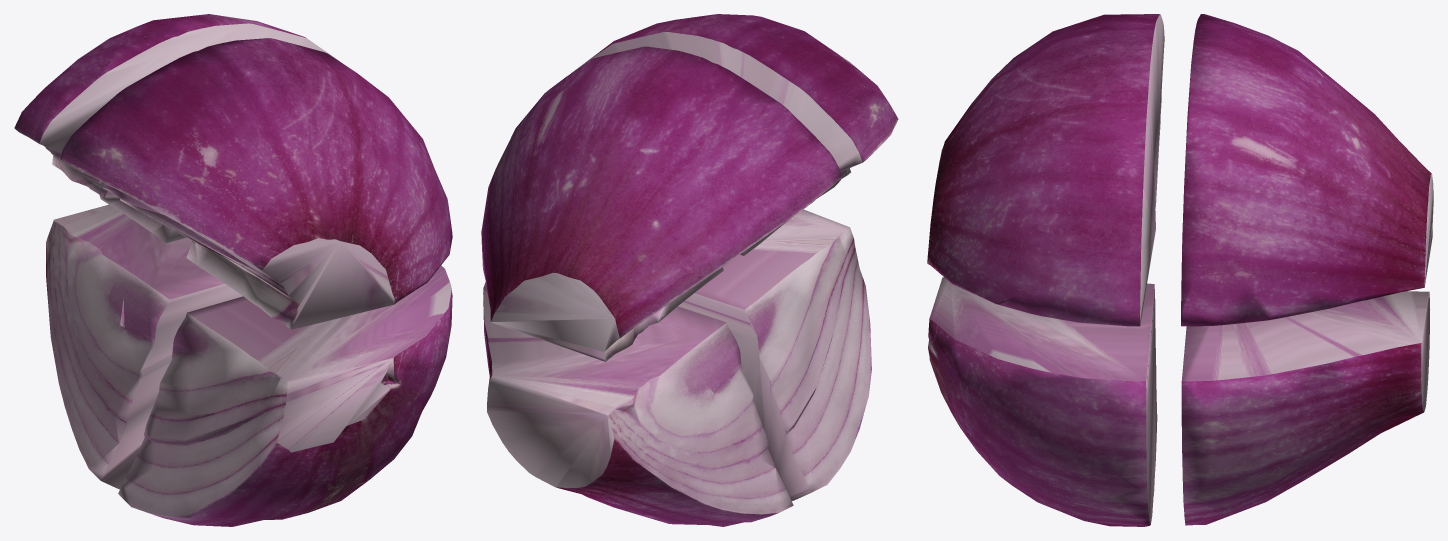
The model's file is OnionCut03.fbx.
3 views of the same model, side by side, from view 1: azimuth 30°, elevation 25°; view 2: azimuth 150°, elevation 25°; view 3: azimuth 270°, elevation 25° (orthographic).
Parts seen in each view (by area): view 1: Result.003, Result.002, Result.001, Result; view 2: Result, Result.001, Result.002, Result.003; view 3: Result, Result.003, Result.001, Result.002.
Part boxes in pixels (x1,y1,x2,y2): Result.003: (59, 38, 452, 329); Result.002: (118, 265, 452, 526); Result.001: (46, 204, 242, 489); Result: (14, 14, 339, 243); Result: (481, 46, 842, 361); Result.001: (483, 282, 793, 526); Result.002: (678, 209, 871, 500); Result.003: (572, 14, 898, 255); Result: (1181, 14, 1433, 326); Result.003: (927, 14, 1164, 326); Result.001: (1181, 291, 1430, 525); Result.002: (928, 277, 1157, 526).
Size of the model in its own units: 239 by 300 by 294.
1 material, 1 textured.
